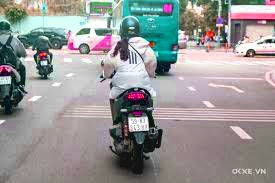Bien-so: (121, 116, 142, 134), (2, 72, 12, 81), (41, 59, 48, 64)
